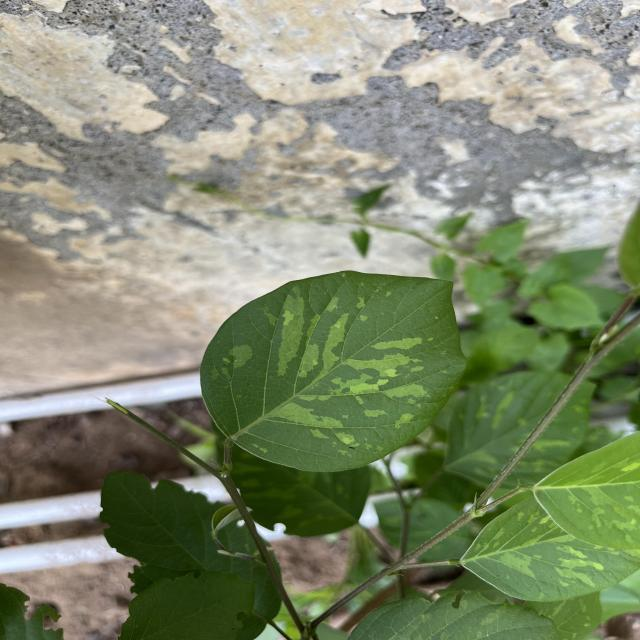Desmodium gangeticum: (195, 266, 472, 476)
